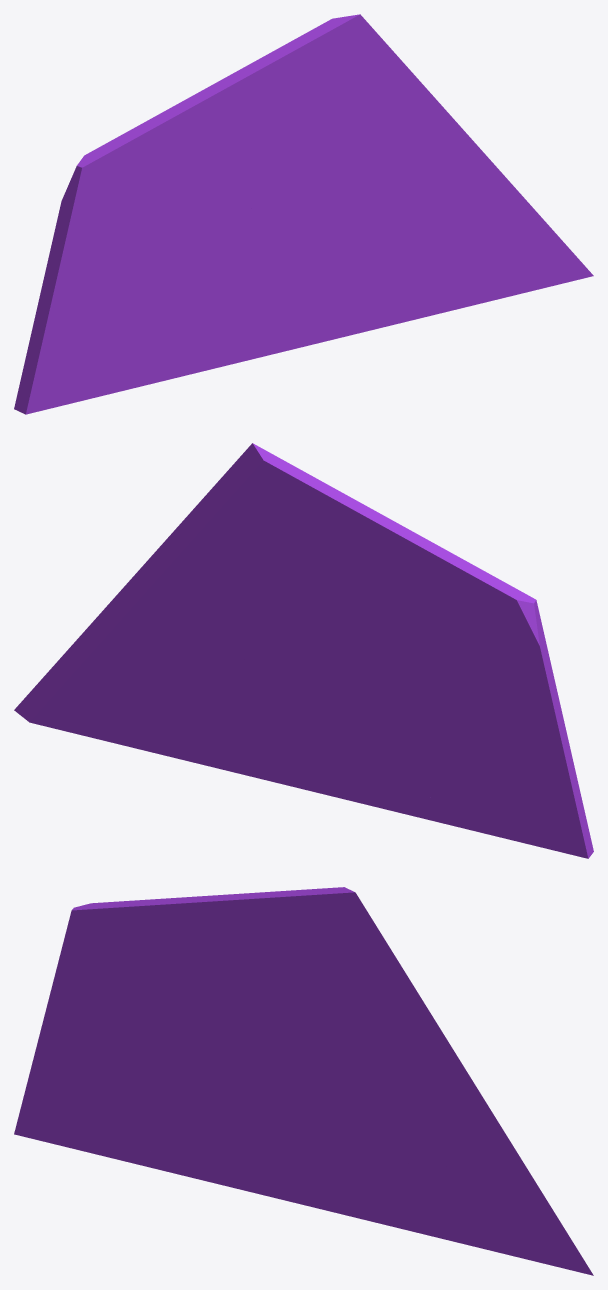
The model's file is Window_8_7_chunks.fbx.
3 views of the same model, one above another, from view 1: azimuth 30°, elevation 25°; view 2: azimuth 150°, elevation 25°; view 3: azimuth 330°, elevation 25° (orthographic). The views are drawn at different scales.
Visible parts, largest first — view 1: Window_8_7_1, Window_8_7_0, Window_8_7_8, Window_8_7_5, Window_8_7_4, Window_8_7_11, Window_8_7_7, Window_8_7_9, Window_8_7_3, Window_8_7_10, Window_8_7_12; view 2: Window_8_7_1, Window_8_7_8, Window_8_7_6, Window_8_7_5, Window_8_7_0, Window_8_7_4, Window_8_7_10, Window_8_7_9, Window_8_7_12, Window_8_7_11, Window_8_7_2, Window_8_7_3; view 3: Window_8_7_1, Window_8_7_0, Window_8_7_8, Window_8_7_5, Window_8_7_4, Window_8_7_11, Window_8_7_7, Window_8_7_9, Window_8_7_3, Window_8_7_10, Window_8_7_12.
Boxes of the visible parts, left/top/right/bottom form: Window_8_7_1: left=14, top=133, right=216, bottom=414; Window_8_7_0: left=153, top=204, right=367, bottom=383; Window_8_7_8: left=323, top=82, right=532, bottom=225; Window_8_7_5: left=230, top=14, right=420, bottom=130; Window_8_7_4: left=125, top=75, right=271, bottom=212; Window_8_7_11: left=404, top=208, right=593, bottom=295; Window_8_7_7: left=247, top=151, right=364, bottom=281; Window_8_7_9: left=322, top=223, right=406, bottom=330; Window_8_7_3: left=222, top=112, right=377, bottom=210; Window_8_7_10: left=375, top=282, right=514, bottom=329; Window_8_7_12: left=386, top=209, right=521, bottom=256; Window_8_7_1: left=384, top=574, right=593, bottom=858; Window_8_7_8: left=76, top=512, right=289, bottom=665; Window_8_7_6: left=241, top=581, right=385, bottom=759; Window_8_7_5: left=191, top=443, right=370, bottom=569; Window_8_7_0: left=284, top=678, right=439, bottom=822; Window_8_7_4: left=354, top=508, right=489, bottom=630; Window_8_7_10: left=26, top=700, right=237, bottom=773; Window_8_7_9: left=198, top=664, right=307, bottom=784; Window_8_7_12: left=74, top=642, right=224, bottom=709; Window_8_7_11: left=14, top=641, right=140, bottom=719; Window_8_7_2: left=328, top=546, right=404, bottom=647; Window_8_7_3: left=257, top=557, right=369, bottom=636; Window_8_7_1: left=14, top=900, right=208, bottom=1165; Window_8_7_0: left=144, top=1023, right=363, bottom=1219; Window_8_7_8: left=318, top=991, right=531, bottom=1176; Window_8_7_5: left=237, top=887, right=416, bottom=1000; Window_8_7_4: left=118, top=893, right=264, bottom=1023; Window_8_7_11: left=400, top=1163, right=593, bottom=1275; Window_8_7_7: left=240, top=1013, right=359, bottom=1145; Window_8_7_9: left=316, top=1110, right=402, bottom=1220; Window_8_7_3: left=214, top=967, right=372, bottom=1029; Window_8_7_10: left=370, top=1187, right=512, bottom=1255; Window_8_7_12: left=382, top=1118, right=520, bottom=1172.
Bounding box in the file's own units: 1040 × 555 × 27.2.
